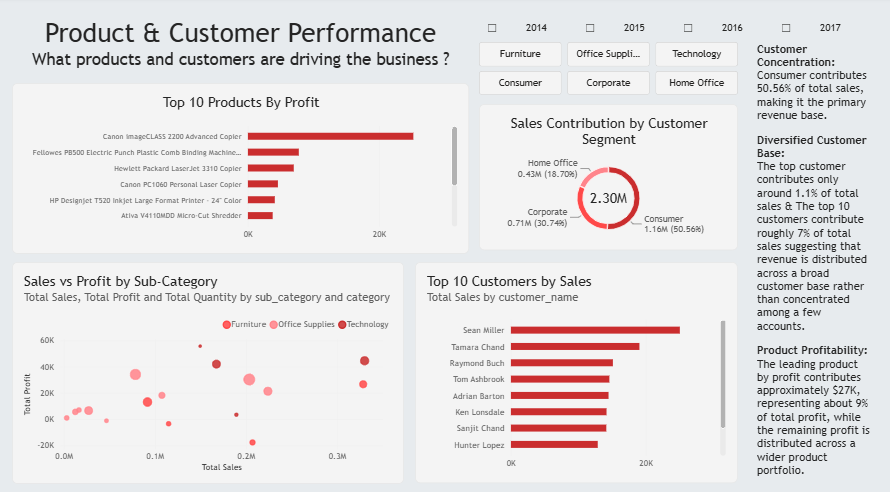

Layout of this report page (visuals, bound fields, positions):
{"tool":"powerbi","page":{"name":"Product & Customer Insights","canvas":[1280,720],"ordinal":1},"visuals":[{"type":"hundredPercentStackedColumnChart","title":"Total Sales by Sub_Category","fields":{"Y":["Measures (2).Total Sales"],"Category":["Global_Superstore_cleaned.sub_category"]},"box":[21.8,15.1,617.6,262],"z":0},{"type":"clusteredBarChart","title":"Total Profit by Sub_Category","fields":{"Category":["Global_Superstore_cleaned.sub_category"],"Y":["Measures (2).Total Profit"]},"box":[5,277.2,427.3,443.4],"z":1000},{"type":"clusteredColumnChart","title":"Top 10 products by sales","fields":{"Y":["Measures (2).Total Sales"],"Category":["Global_Superstore_cleaned.product_name"]},"box":[416.6,277.2,519.1,443.5],"z":2000},{"type":"clusteredColumnChart","title":"Top 10 Customers by Sales","fields":{"Category":["Global_Superstore_cleaned.customer_name"],"Y":["Measures (2).Total Sales"]},"box":[658.5,0,621.5,288.9],"z":3000},{"type":"donutChart","fields":{"Category":["Global_Superstore_cleaned.segment"],"Y":["Measures (2).Total Sales"]},"box":[677,312.4,569.4,186.5],"z":4000},{"type":"pieChart","fields":{"Y":["Measures (2).Total Profit"],"Category":["Global_Superstore_cleaned.segment"]},"box":[935.6,512.3,344.4,208.3],"z":5000}]}

Visuals, with their boxes in screenshot pixels (x1, y1, x2, y2), scaled from the page's 1280x720 canvas onto the 890x492 screenshot:
"Total Sales by Sub_Category" hundredPercentStackedColumnChart: crop(15, 10, 445, 189)
"Total Profit by Sub_Category" clusteredBarChart: crop(3, 189, 301, 491)
"Top 10 products by sales" clusteredColumnChart: crop(290, 189, 651, 491)
"Top 10 Customers by Sales" clusteredColumnChart: crop(458, 0, 889, 197)
donutChart - Global_Superstore_cleaned.segment x Measures (2).Total Sales: crop(471, 213, 867, 341)
pieChart - Measures (2).Total Profit x Global_Superstore_cleaned.segment: crop(651, 350, 889, 491)
